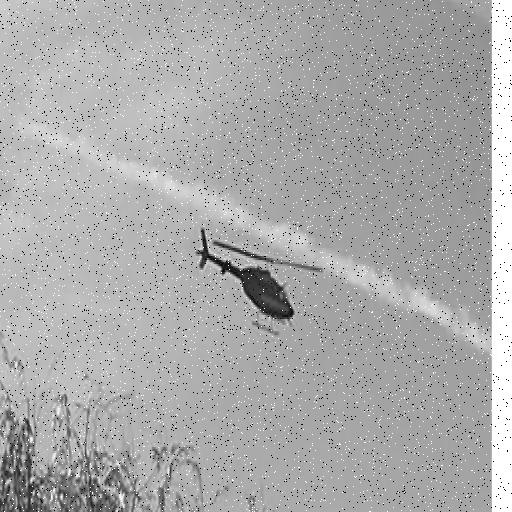helicopter: (195, 225, 326, 336)
